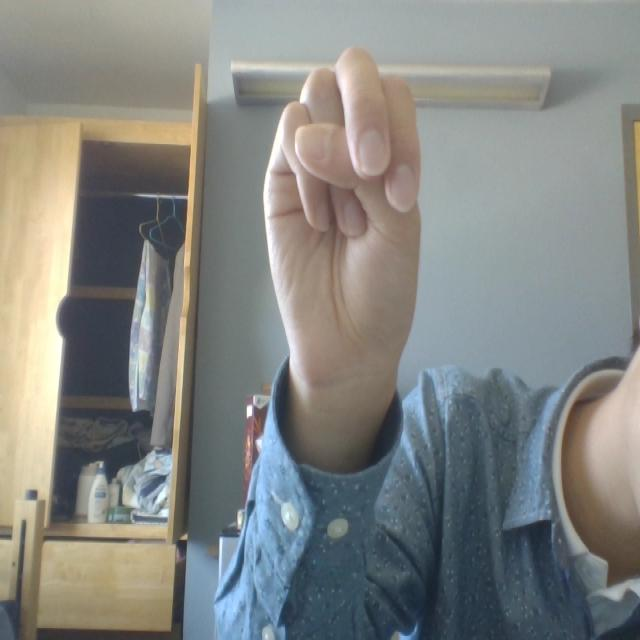N: (238, 38, 472, 468)
